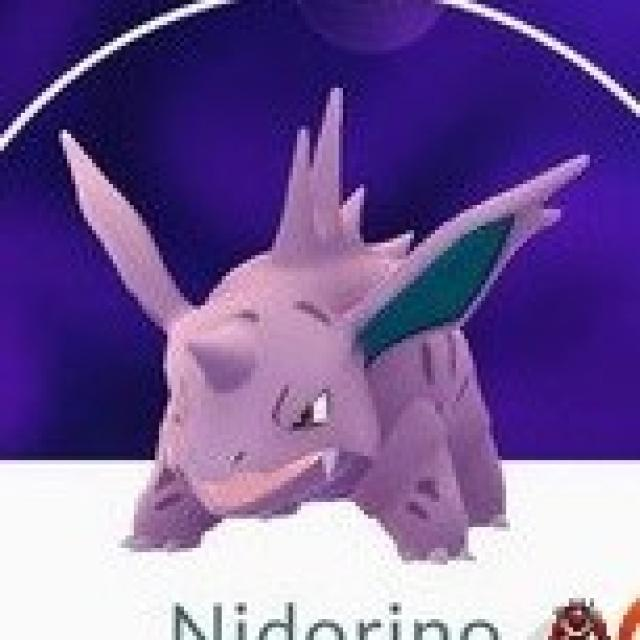Nidorino: (65, 144, 598, 558)
